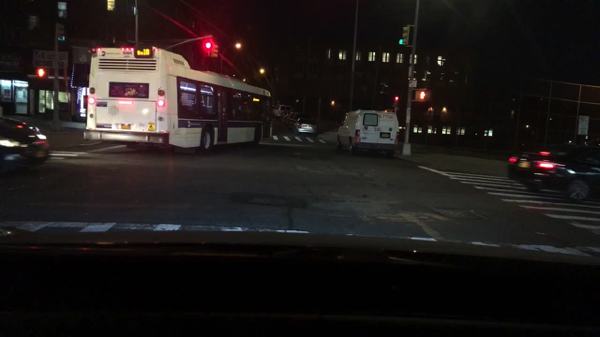bus: (84, 45, 273, 155)
car: (503, 138, 599, 202), (336, 111, 401, 158), (0, 115, 51, 172), (294, 119, 319, 137), (292, 114, 310, 133), (272, 104, 292, 117), (286, 111, 299, 129), (281, 111, 290, 123)
traffic light: (208, 40, 220, 60), (55, 21, 65, 42), (399, 25, 408, 46), (37, 66, 48, 79), (418, 88, 428, 101), (206, 40, 212, 56), (108, 1, 115, 11), (394, 96, 399, 101)
traffic sign: (578, 116, 589, 137), (409, 79, 417, 88)
